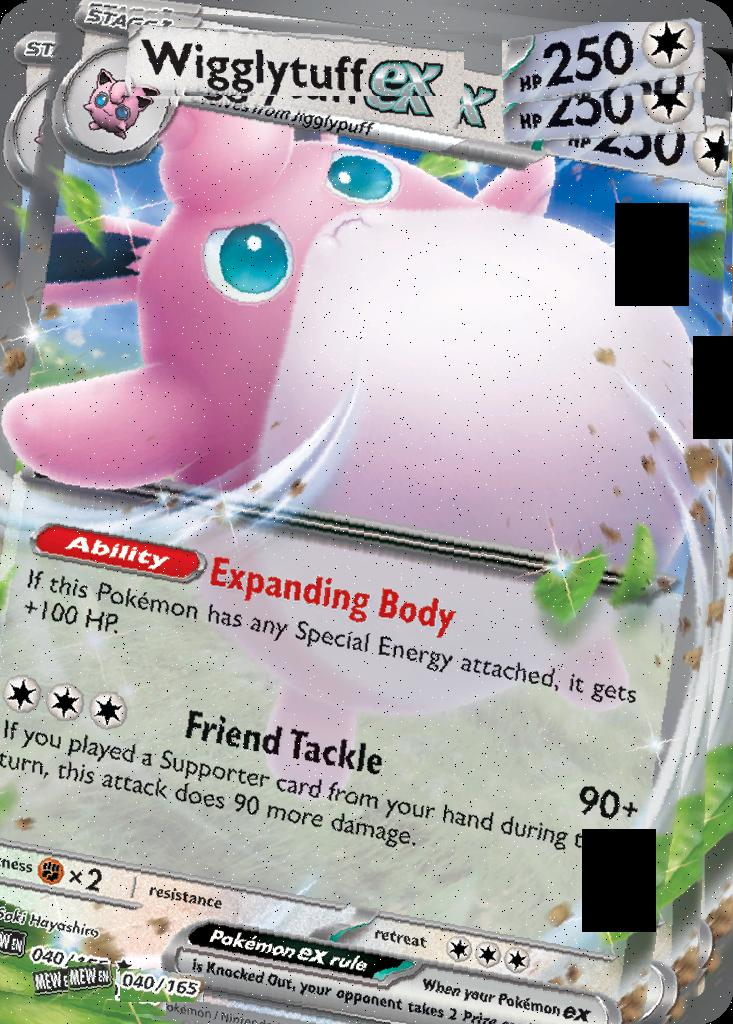card: (0, 0, 733, 1024)
hp: (502, 23, 709, 105)
name: (128, 24, 465, 96)
set num: (120, 968, 204, 1002)
set symbol: (69, 961, 117, 999)
